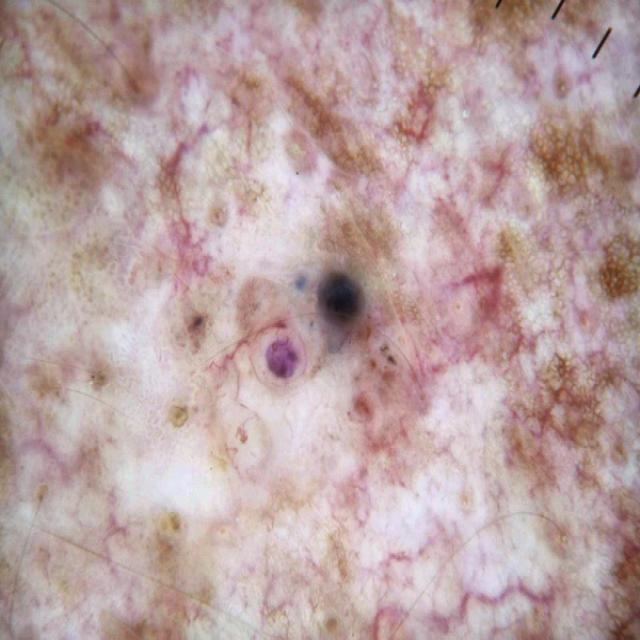Basal-Cell-Carcinoma-BCC-: (25, 41, 627, 617)
